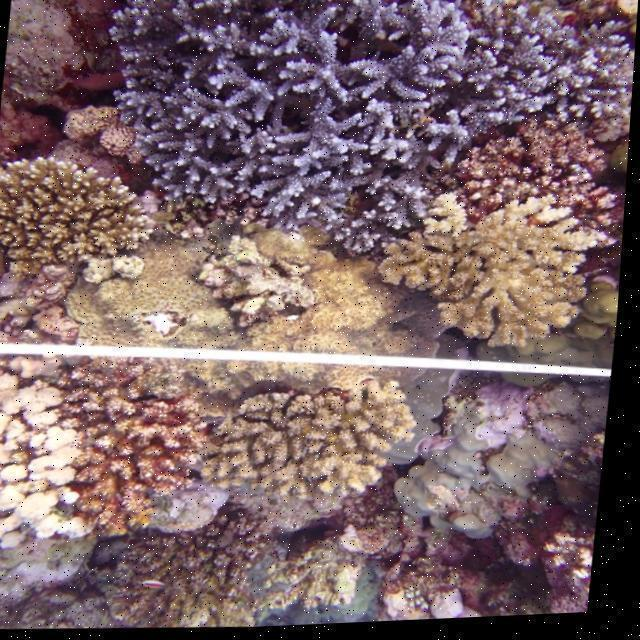Bleached Coral: (0, 356, 83, 548)
Healthy Coral: (115, 5, 543, 224), (426, 132, 629, 363), (250, 366, 419, 527), (98, 378, 233, 535), (9, 151, 152, 274)
